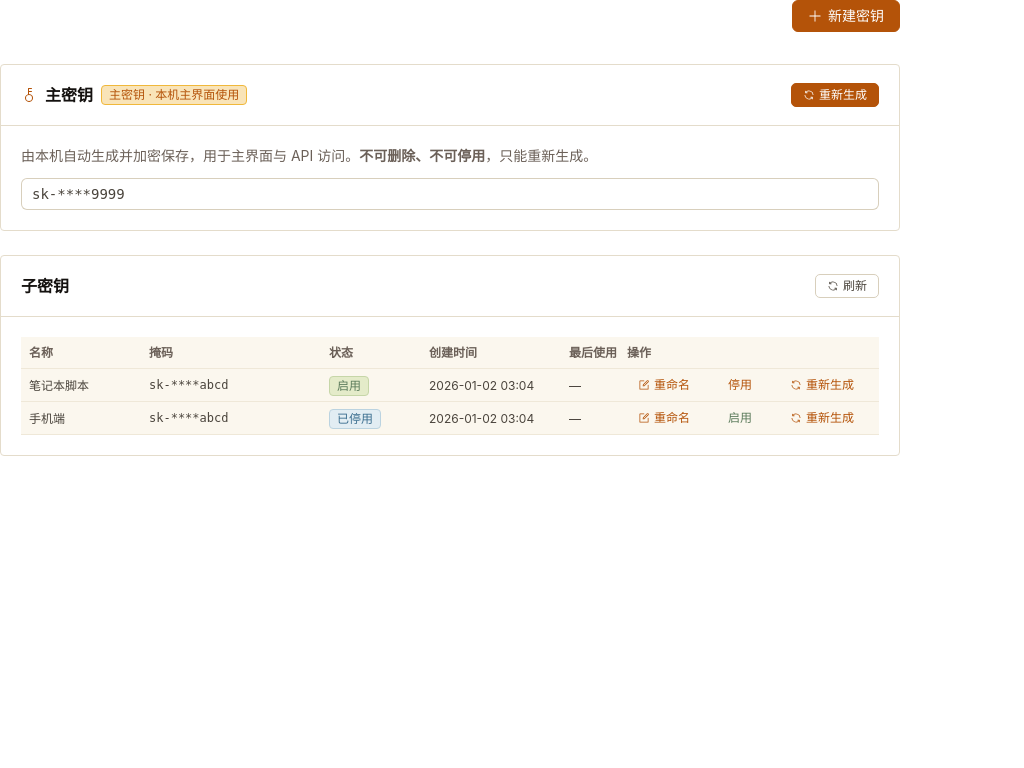
it: ApiKeysPanel › 重新生成（roll）后弹出新的明文弹窗
Click the button "重新生成" in the row of "笔记本脚本" at (822,385), box 779,373 -> 865,397
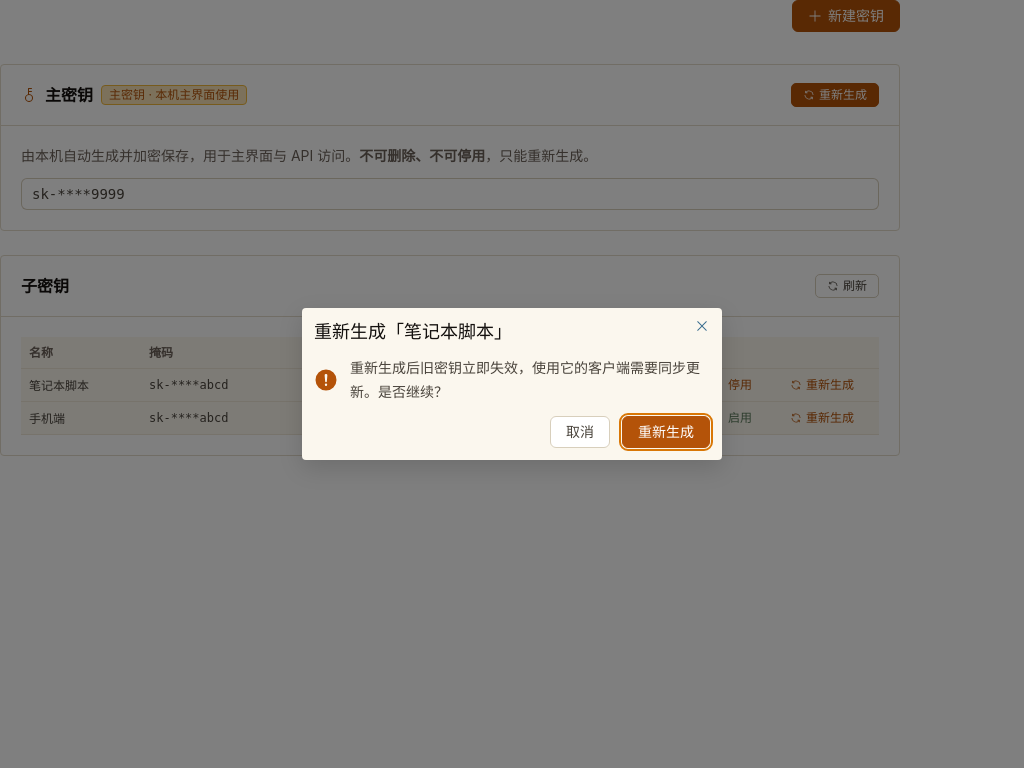
Check: the text "旧密钥立即失效" is shown, box 350,359 -> 700,400
Check: the button "重新生成" is shown
Click the button "重新生成" at (666,432), box 622,416 -> 710,448
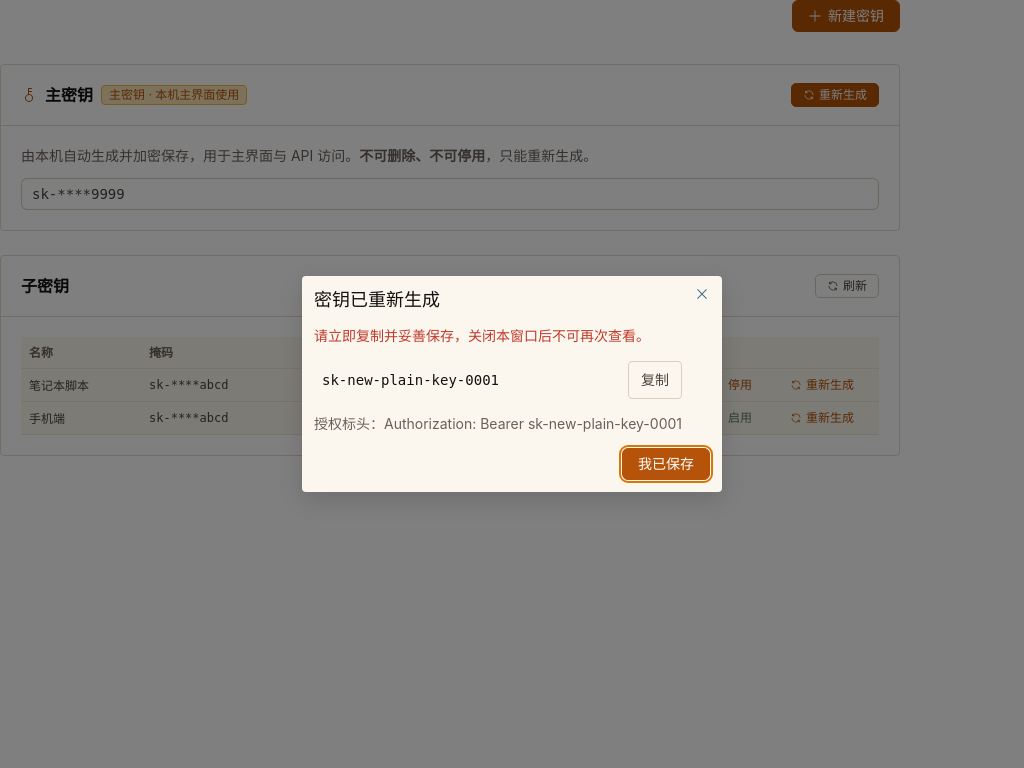
Check: the text "sk-new-plain-key-0001" is shown, box 314,360 -> 620,400
Check: the text "关闭本窗口后不可再次查看" is shown, box 314,327 -> 650,344
